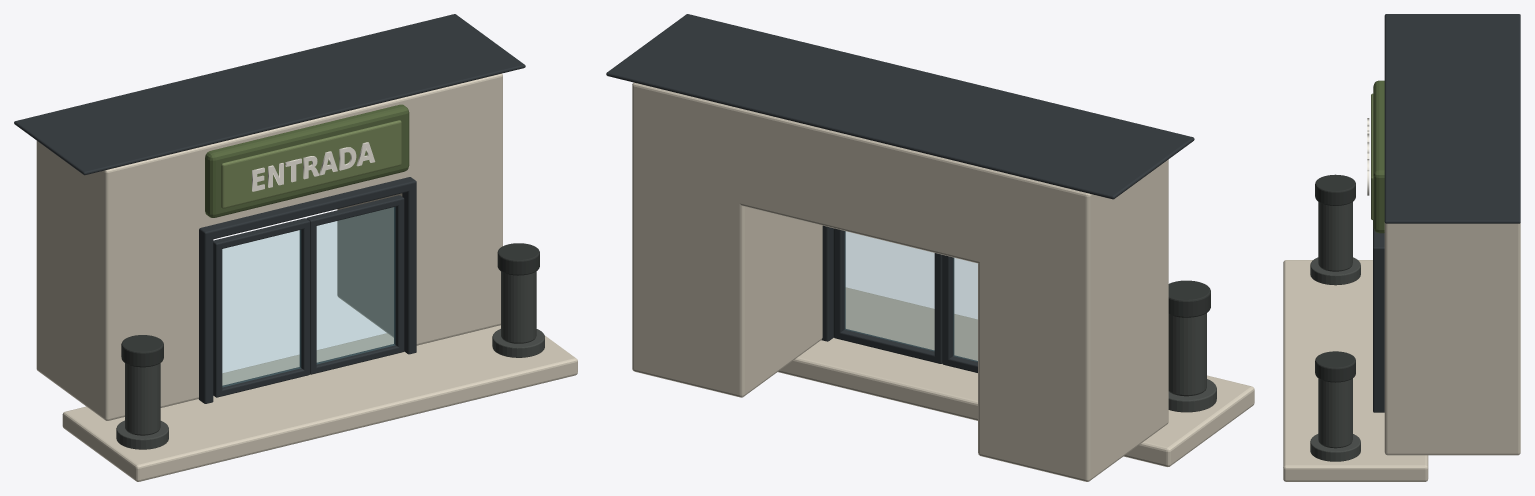
File: StoreEntrance.locked.glb
The picture shows the model from 3 angles, left to right: view 1: azimuth 30°, elevation 25°; view 2: azimuth 150°, elevation 25°; view 3: azimuth 270°, elevation 25°; orthographic projection. The views are drawn at different scales.
Visible parts, largest first — view 1: EntranceBody, EntranceSign, EntranceGlassRight, EntranceGlassLeft, EntrancePortalTrim, EntranceFrameLeft, EntranceFrameRight, EntranceBollardLeft, EntranceBollardRight, Text; view 2: EntranceBody, EntranceGlassRight, EntranceBollardLeft, EntranceFrameRight, EntranceGlassLeft, EntranceFrameLeft, EntrancePortalTrim; view 3: EntranceBody, EntranceBollardRight, EntranceBollardLeft, EntrancePortalTrim, EntranceSign.
Boxes of the visible parts, bbox=[...] form: EntranceBody: bbox=[14, 14, 577, 481]; EntranceSign: bbox=[205, 104, 409, 217]; EntranceGlassRight: bbox=[317, 207, 395, 363]; EntranceGlassLeft: bbox=[222, 230, 300, 386]; EntrancePortalTrim: bbox=[199, 177, 416, 403]; EntranceFrameLeft: bbox=[213, 218, 309, 397]; EntranceFrameRight: bbox=[306, 195, 404, 374]; EntranceBollardLeft: bbox=[116, 335, 168, 449]; EntranceBollardRight: bbox=[492, 243, 544, 357]; Text: bbox=[252, 142, 375, 191]; EntranceBody: bbox=[606, 14, 1254, 481]; EntranceGlassRight: bbox=[845, 231, 934, 350]; EntranceBollardLeft: bbox=[1168, 280, 1216, 412]; EntranceFrameRight: bbox=[833, 228, 942, 363]; EntranceGlassLeft: bbox=[953, 258, 977, 361]; EntranceFrameLeft: bbox=[942, 255, 977, 372]; EntrancePortalTrim: bbox=[821, 225, 833, 341]; EntranceBody: bbox=[1283, 14, 1520, 481]; EntranceBollardRight: bbox=[1310, 351, 1360, 461]; EntranceBollardLeft: bbox=[1310, 174, 1360, 285]; EntrancePortalTrim: bbox=[1373, 220, 1384, 412]; EntranceSign: bbox=[1371, 80, 1384, 233].
Bounding box in the file's own units: 3 × 1.76 × 1.45.
